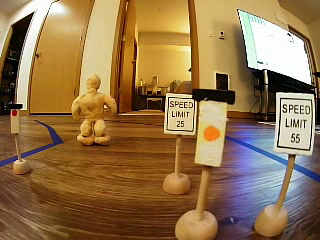Red traffic light: (4, 96, 26, 135)
person: (71, 70, 120, 146)
speed limit 25: (163, 84, 197, 138)
speed limit 55: (273, 85, 317, 158)
yellow traffic light: (202, 80, 236, 168)
